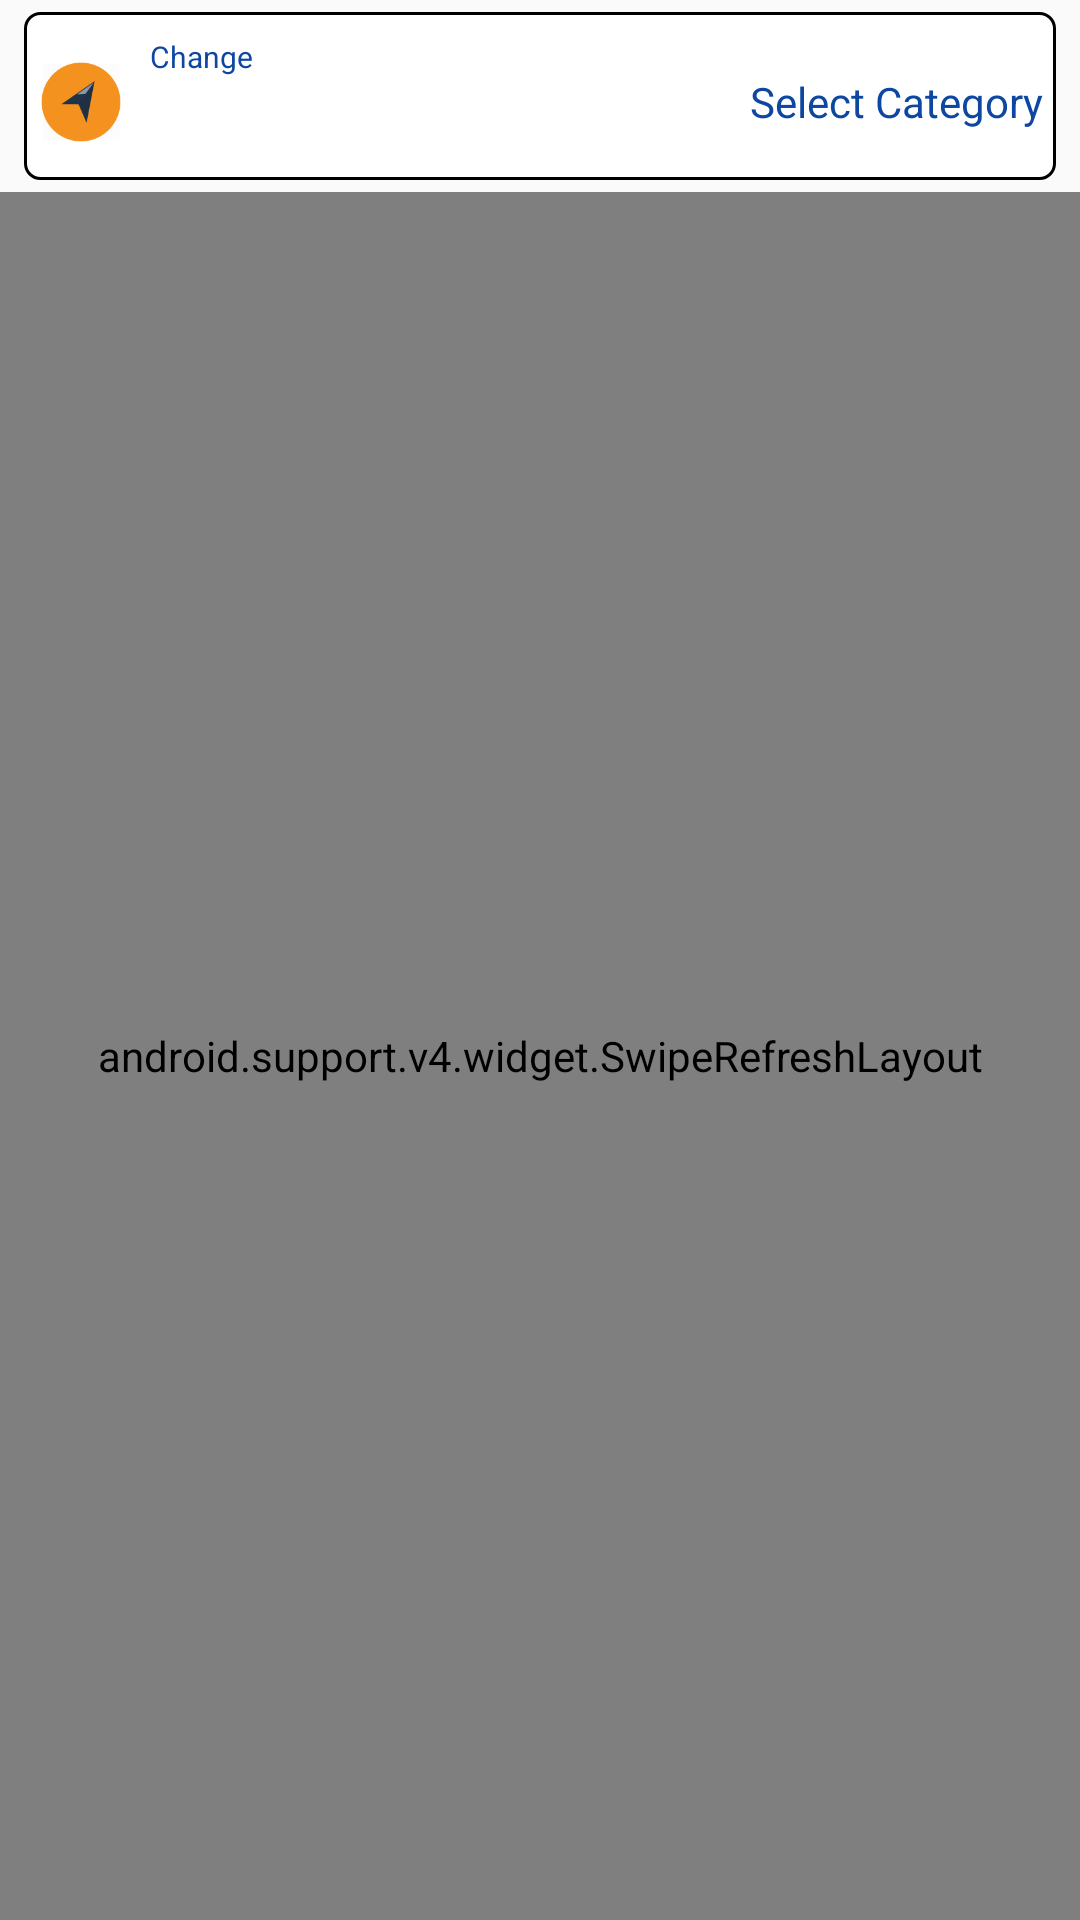

Icons on this 1080w x 1920h Android screen, each with its box as (x1, y1, x2, y2):
send location: (41, 62, 121, 142)
